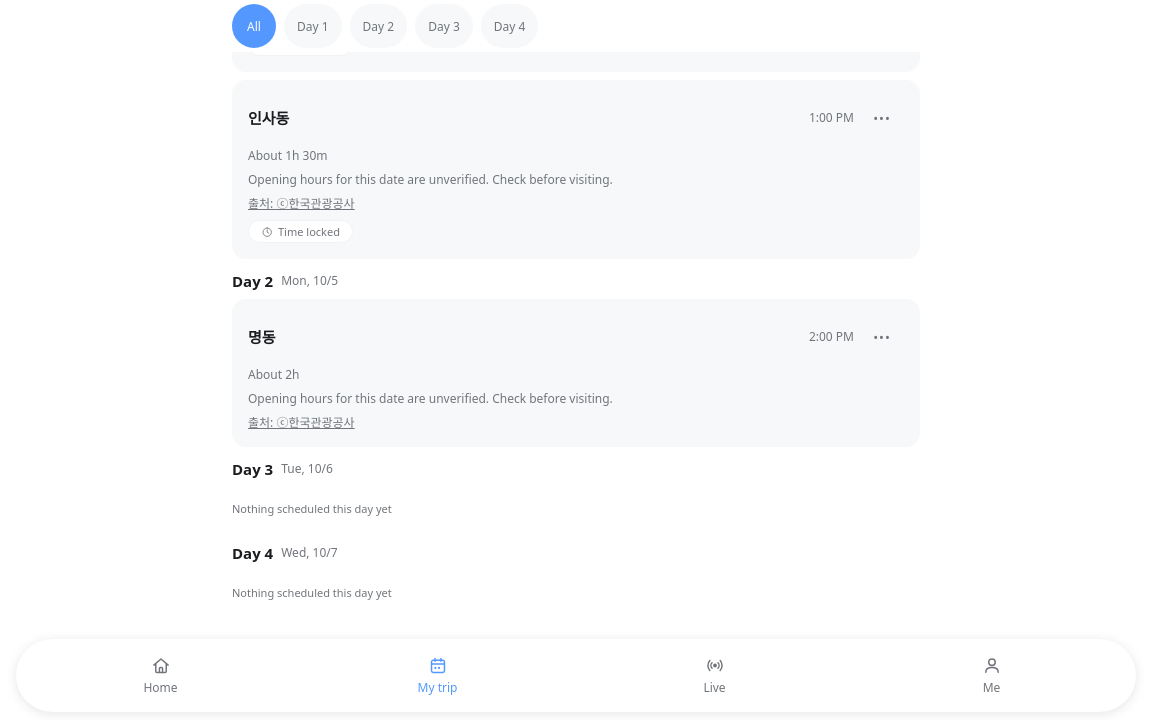
FE-307-T2 the set action shows its states › says it is working while the request is in flight
(page scrolled)
Click the button "•••" next to "2:00 PM": coordinates (882, 337) [860,315,904,359]
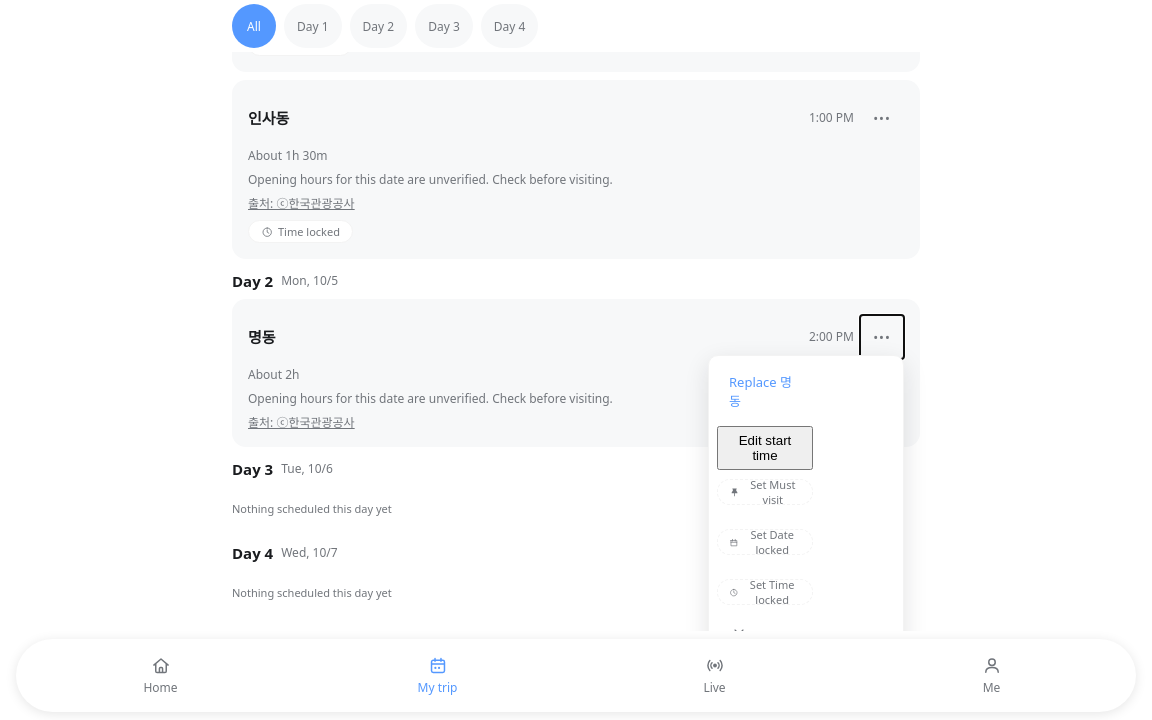
Click the button "Set Must visit": coordinates (765, 492) [717,470,813,514]
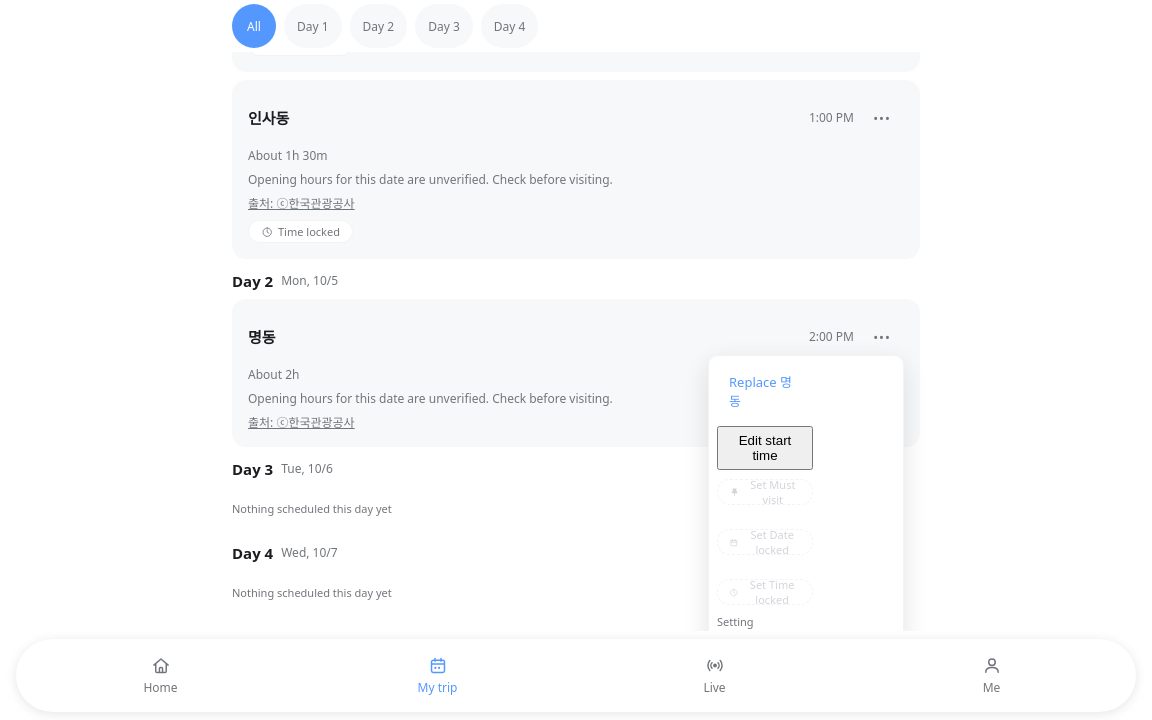
Expected: the text "Setting" is shown, [717,614,754,629]
